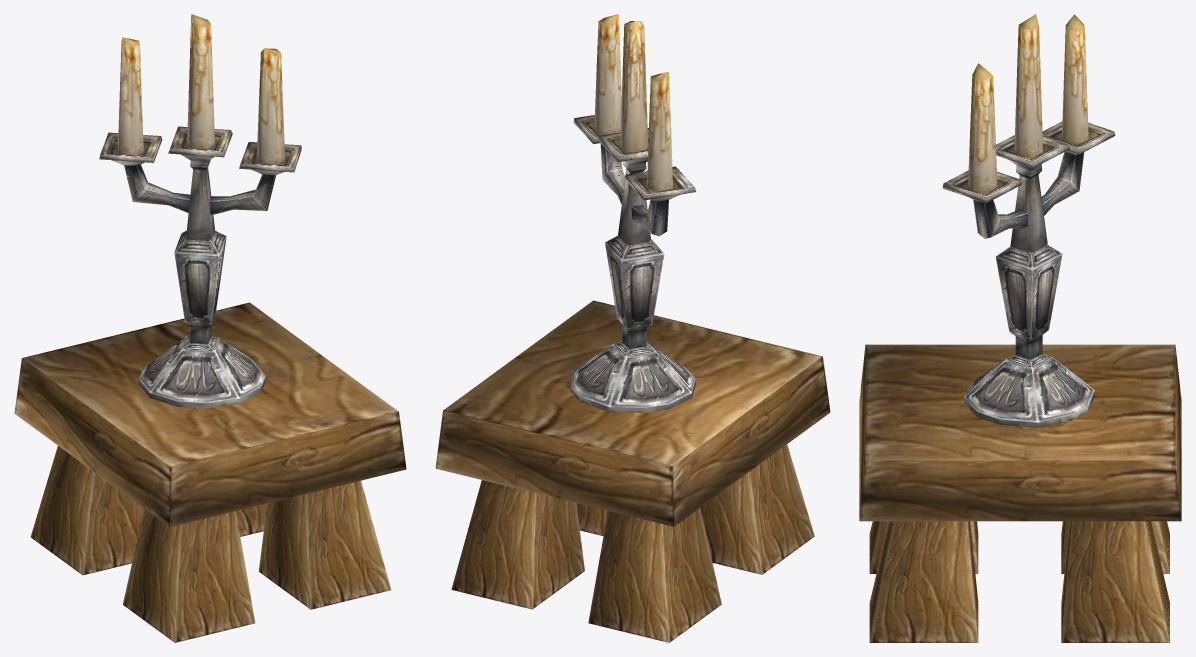
Rendered from mesita2.obj.
3 views of the same model, side by side, from view 1: azimuth 30°, elevation 25°; view 2: azimuth 150°, elevation 25°; view 3: azimuth 270°, elevation 25° (orthographic). The views are drawn at different scales.
Parts seen in each view (by area): view 1: mesita2:Geoset0mesita2, mesita2:Geoset0; view 2: mesita2:Geoset0mesita2, mesita2:Geoset0; view 3: mesita2:Geoset0mesita2, mesita2:Geoset0.
Boxes of the visible parts, x1,y1,x2,y2 form: mesita2:Geoset0mesita2: (14, 302, 406, 642); mesita2:Geoset0: (99, 14, 301, 408); mesita2:Geoset0mesita2: (435, 300, 830, 642); mesita2:Geoset0: (571, 14, 696, 413); mesita2:Geoset0mesita2: (859, 344, 1181, 642); mesita2:Geoset0: (942, 14, 1115, 427).
Bounding box in the file's own units: 0.4675 × 1.03 × 0.5304.
2 materials, 2 textured.
